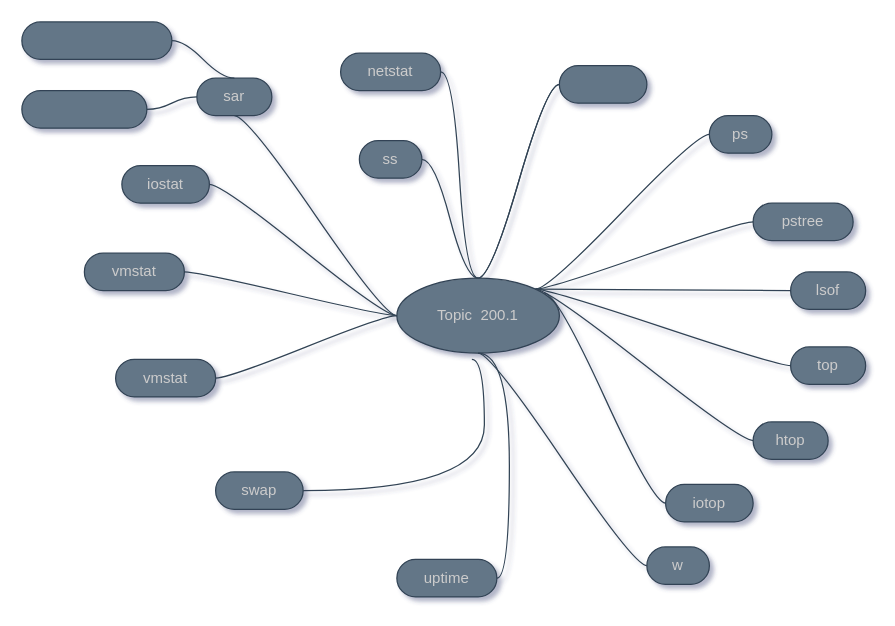
Image size: 895x626. Some labels were removed from this diagram. The centre of each missing label's shape, as x and y in pixels:
/var/log/sa: (x=84, y=108)
/var/log/sysstat: (x=96, y=40)
iptraf: (x=602, y=83)
